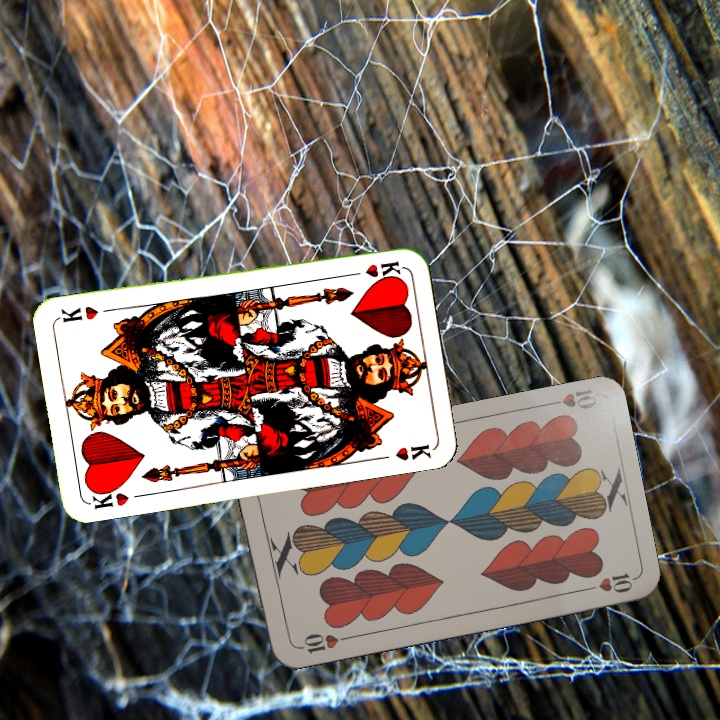H10: (293, 629, 351, 657), (540, 385, 599, 412)
HK: (86, 481, 131, 512), (344, 257, 404, 280)
